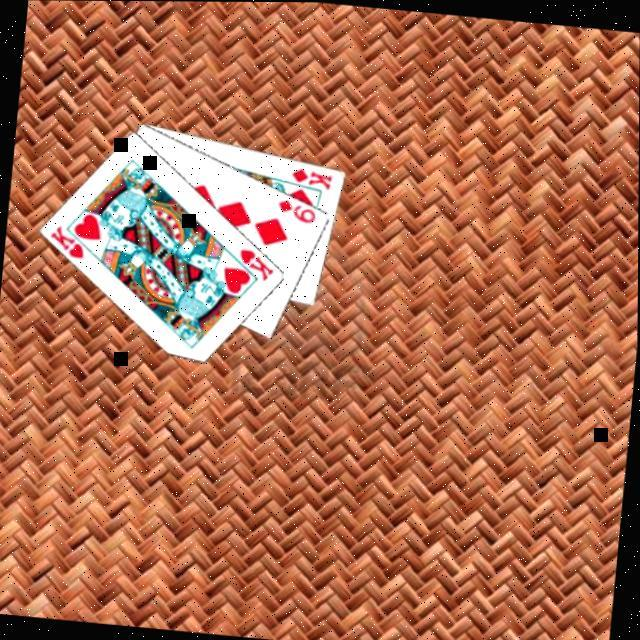9D: (273, 193, 319, 223)
KD: (286, 162, 334, 190)
KH: (232, 242, 278, 282), (44, 220, 87, 258)
